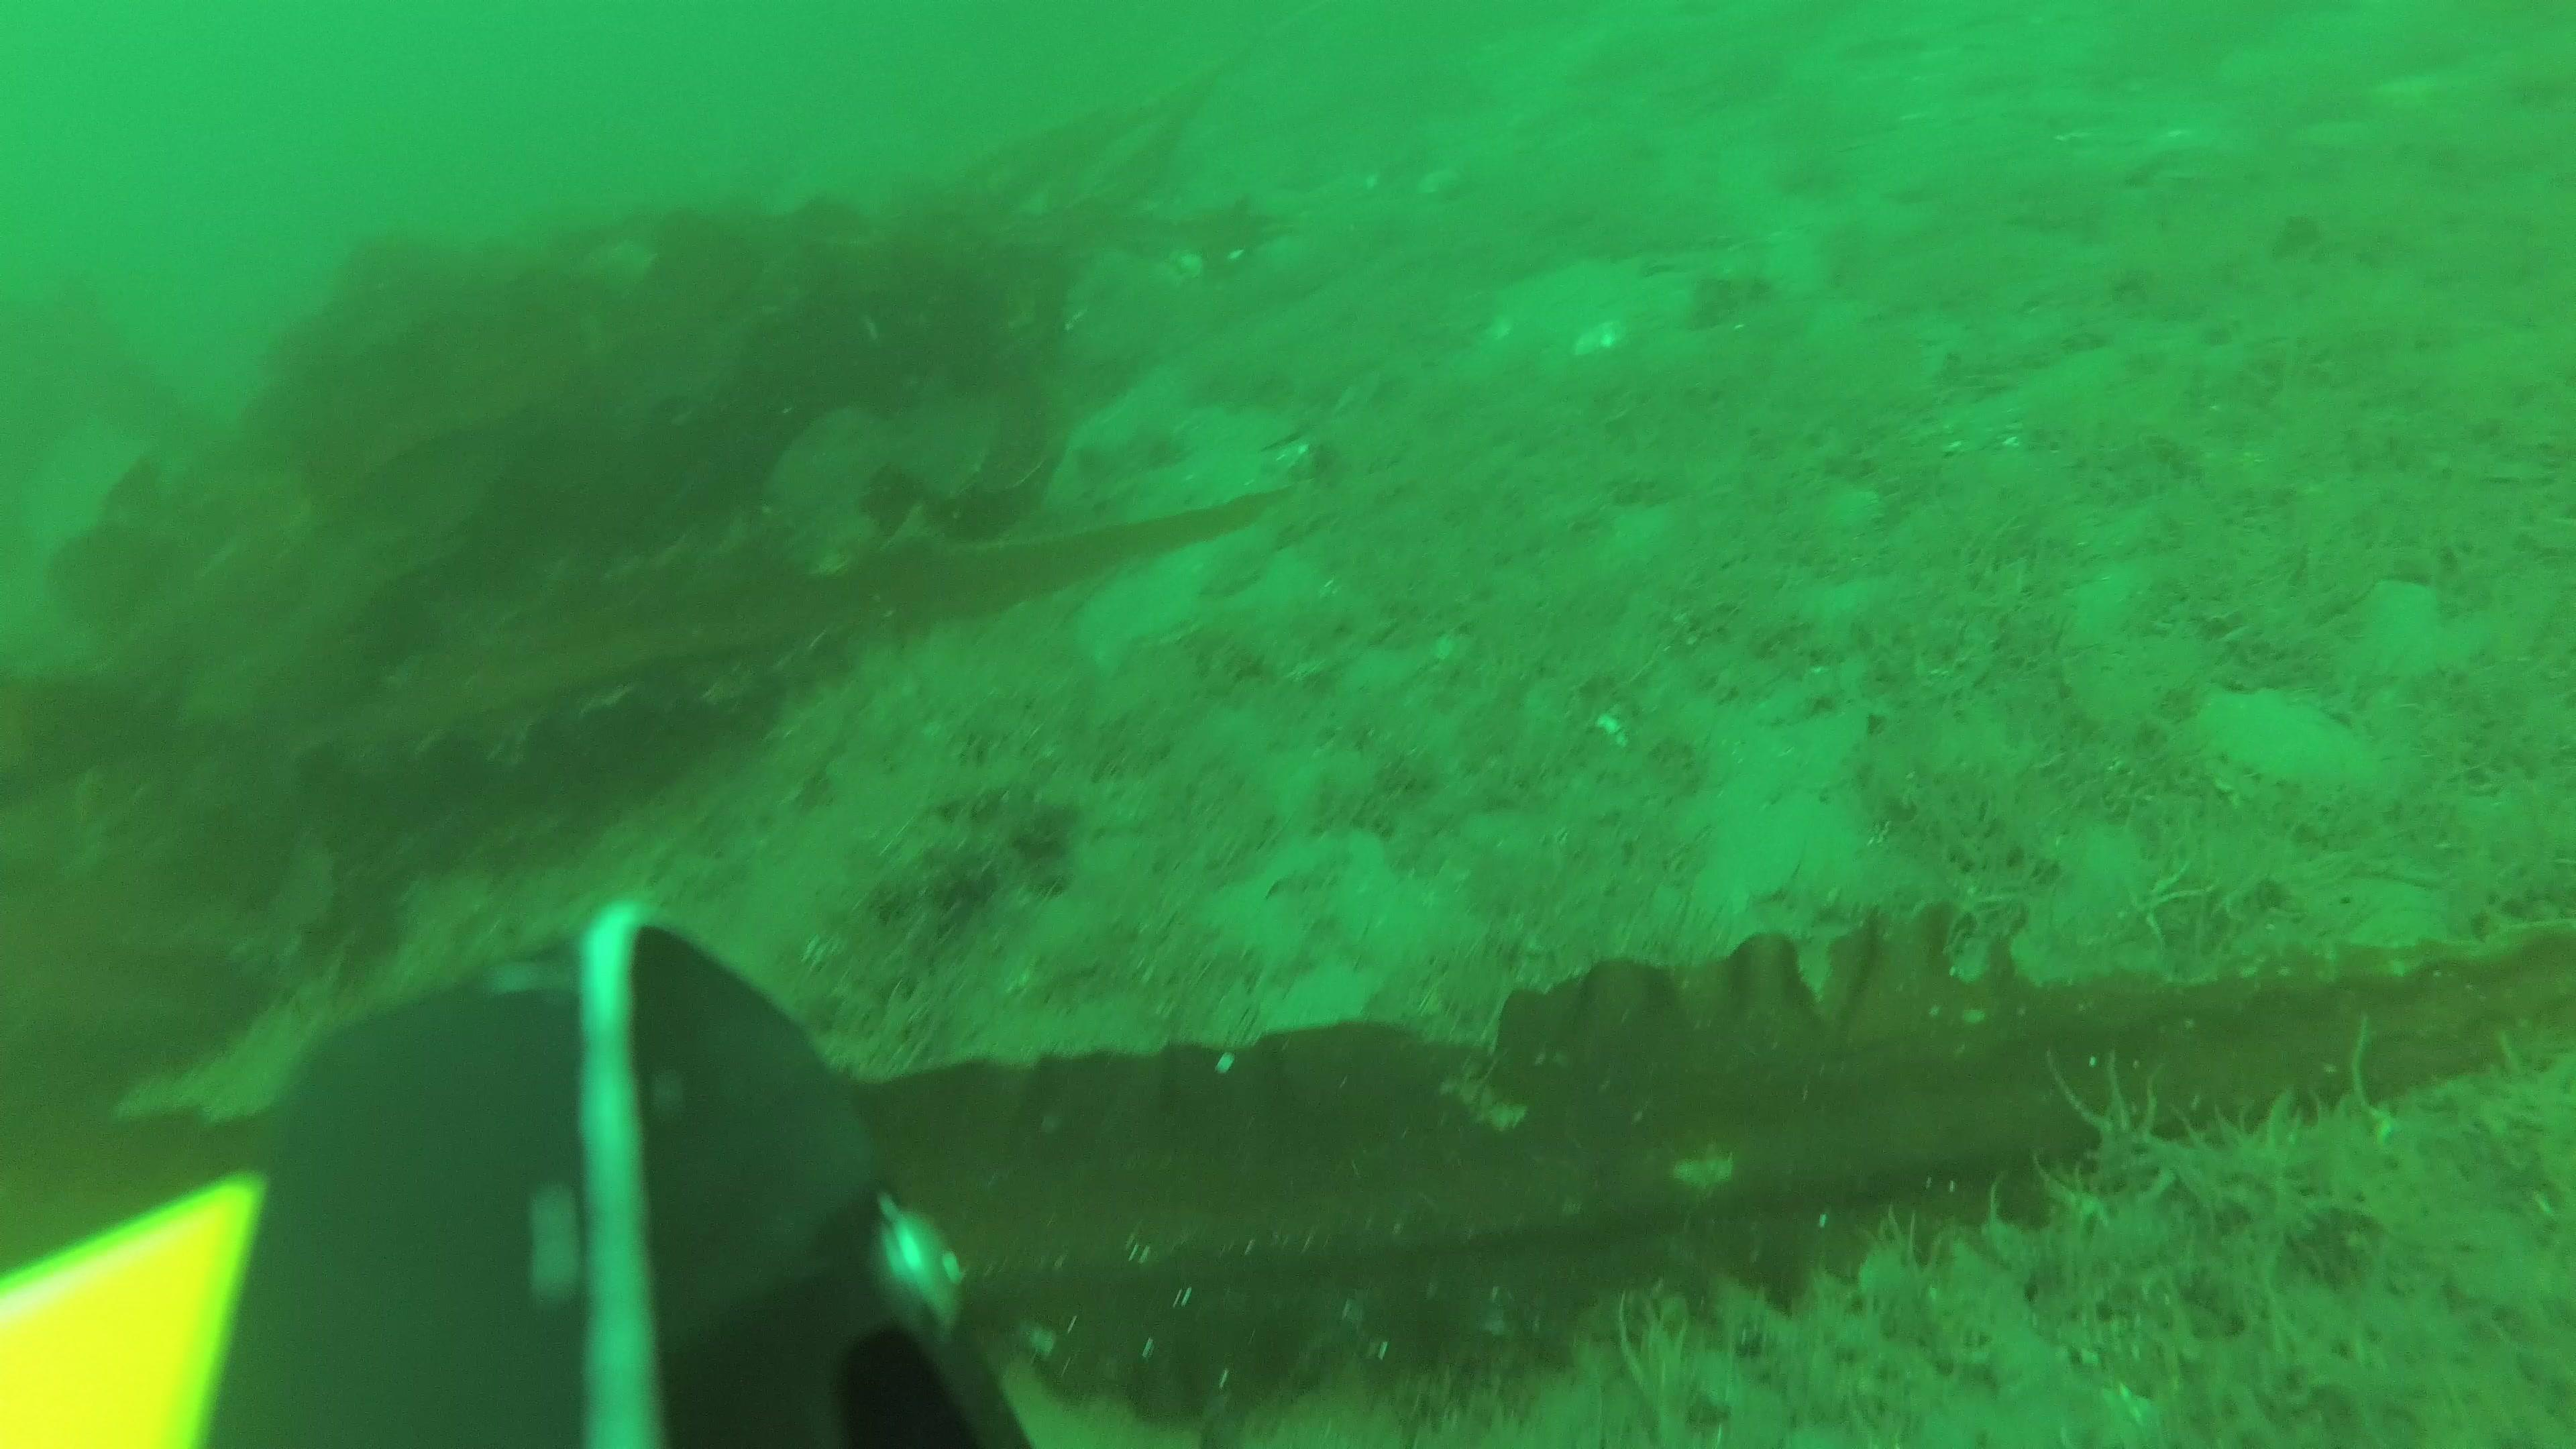scallop: (2199, 692, 2387, 824), (2334, 579, 2465, 688)
